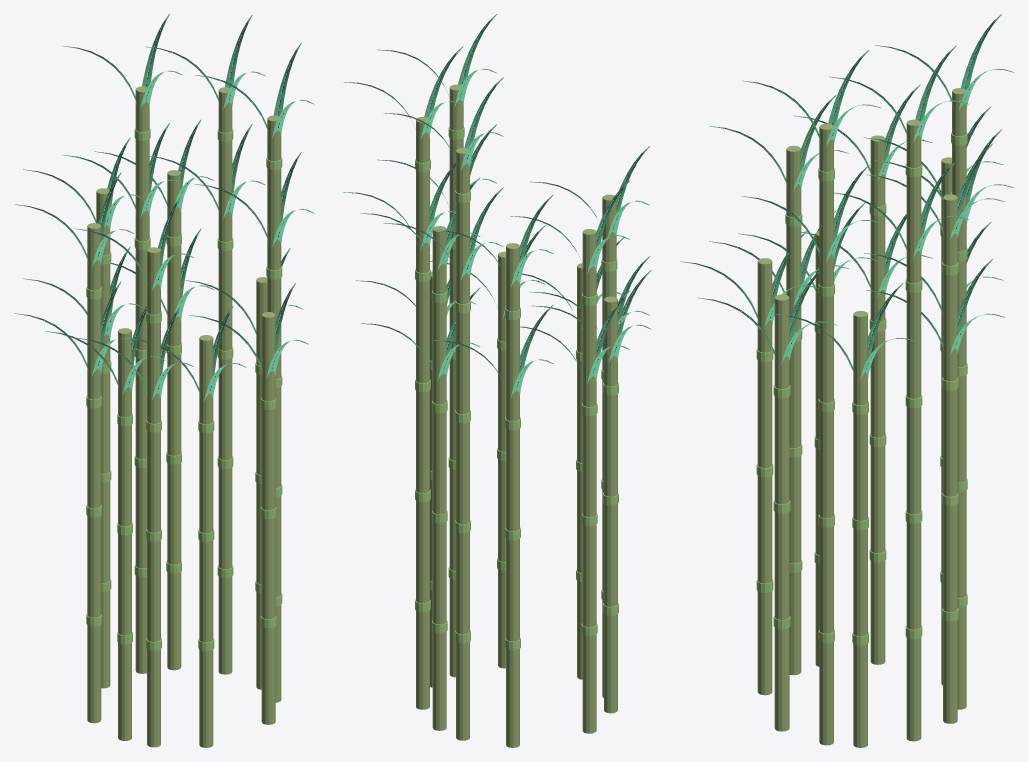
Rendered from thin_bamboo_stand_tropical_island_and_palm_trees_6829.glb.
The picture shows the model from 3 angles, left to right: view 1: azimuth 30°, elevation 25°; view 2: azimuth 150°, elevation 25°; view 3: azimuth 270°, elevation 25°; orthographic projection. The views are drawn at different scales.
Parts seen in each view (by area): view 1: thin-bamboo; view 2: thin-bamboo; view 3: thin-bamboo.
Part boxes in pixels (<box>): thin-bamboo: <box>14,14,314,747</box>; thin-bamboo: <box>343,14,651,747</box>; thin-bamboo: <box>680,14,1014,747</box>.
Bounding box in the file's own units: 1.19 × 2.58 × 1.18.
